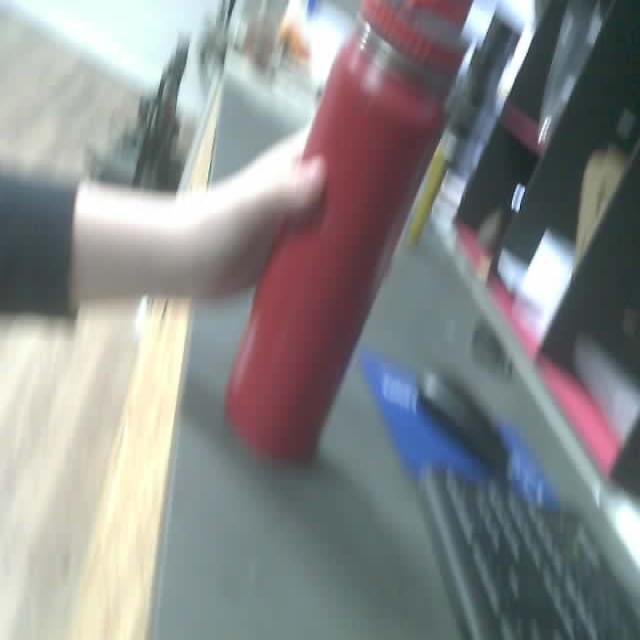water bottle: (223, 0, 474, 464)
